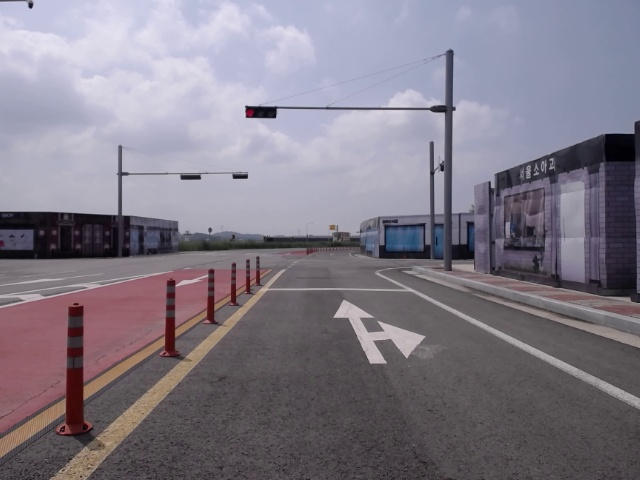red_3: (244, 106, 277, 119)
